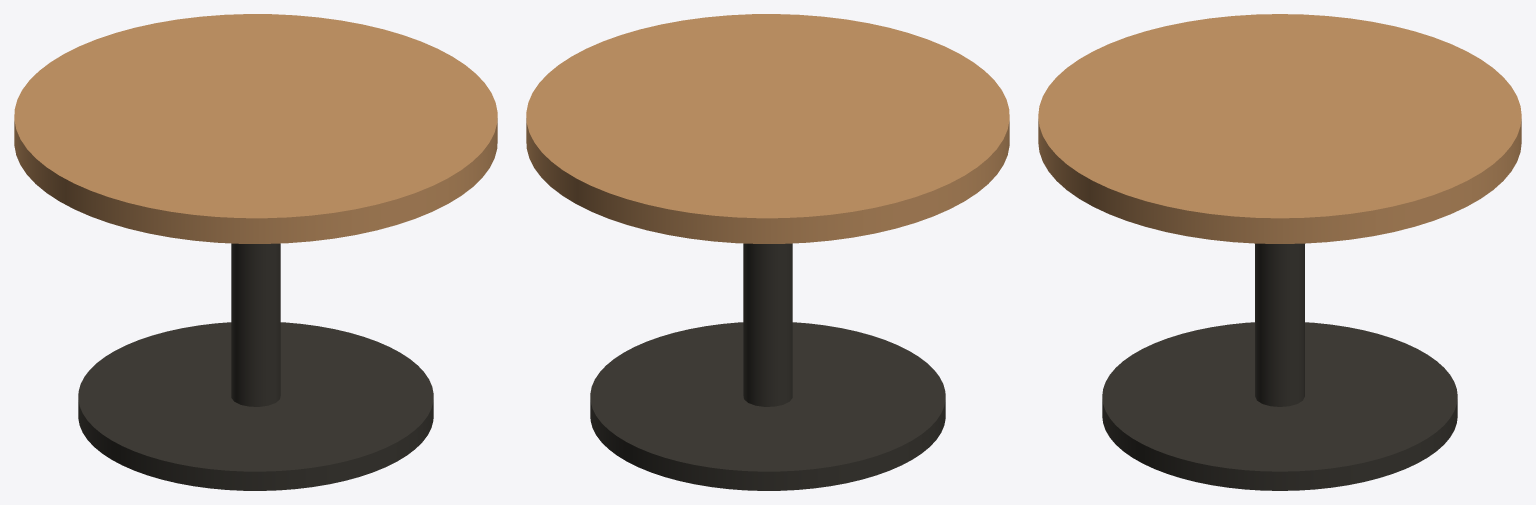
File: terrace-cafe-table.gltf
3 views of the same model, side by side, from view 1: azimuth 30°, elevation 25°; view 2: azimuth 150°, elevation 25°; view 3: azimuth 270°, elevation 25° (orthographic).
Visible parts, largest first — view 1: Terrace cafe table round top, Terrace table weighted base, Terrace cafe table pedestal; view 2: Terrace cafe table round top, Terrace table weighted base, Terrace cafe table pedestal; view 3: Terrace cafe table round top, Terrace table weighted base, Terrace cafe table pedestal.
Boxes of the visible parts, x1,y1,x2,y2 form: Terrace cafe table round top: [14, 14, 497, 243]; Terrace table weighted base: [78, 322, 433, 490]; Terrace cafe table pedestal: [231, 243, 280, 406]; Terrace cafe table round top: [526, 14, 1009, 243]; Terrace table weighted base: [590, 322, 945, 490]; Terrace cafe table pedestal: [743, 243, 792, 406]; Terrace cafe table round top: [1038, 14, 1521, 243]; Terrace table weighted base: [1102, 322, 1457, 490]; Terrace cafe table pedestal: [1255, 243, 1304, 406].
Size of the model in its own units: 0.68 by 0.465 by 0.68.
